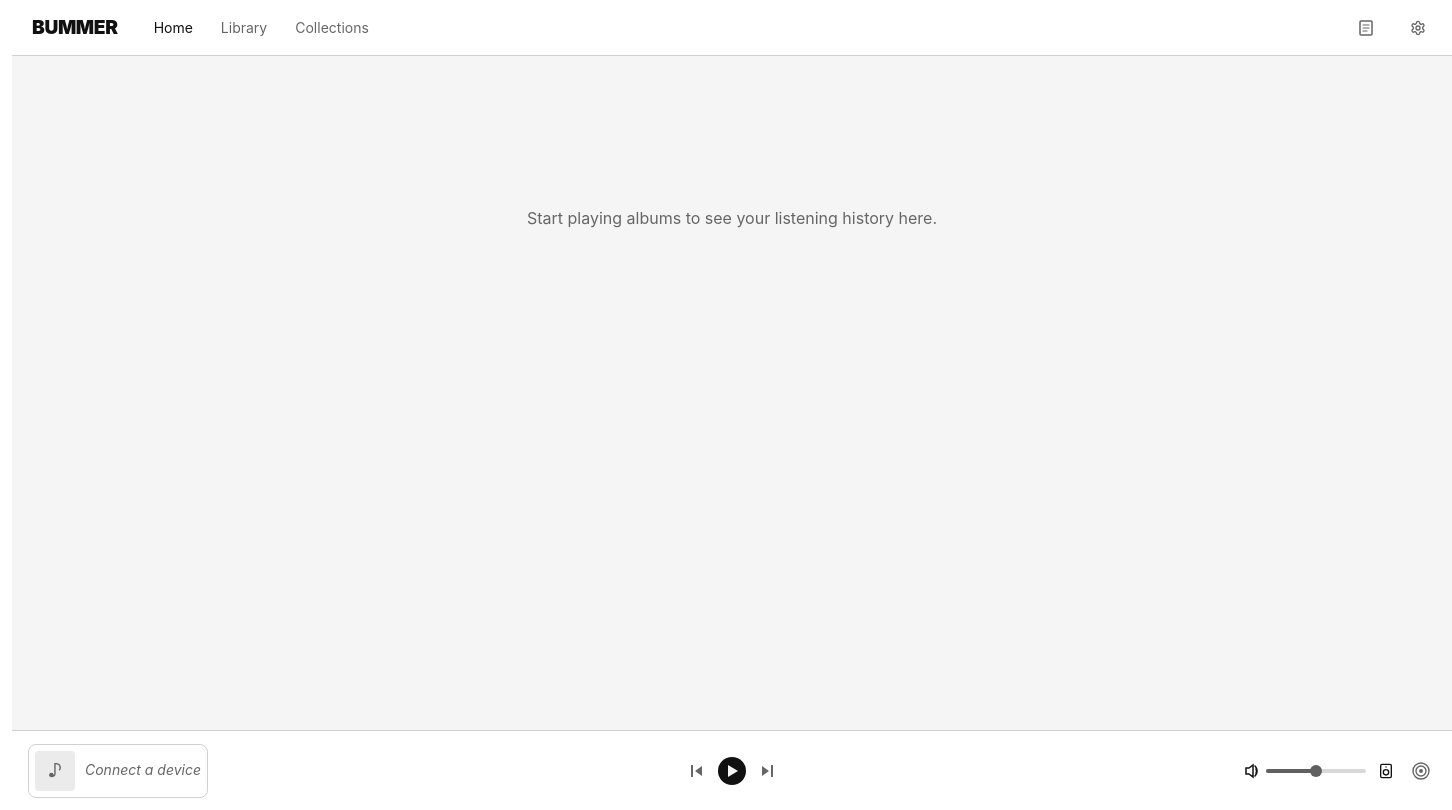
Test: App layout › shows desktop search input on library page
expect the header is shown: met, box [12, 0, 1451, 56]
Note: Navigate to library
Click the button "Library" at (244, 28), box [209, 12, 279, 44]
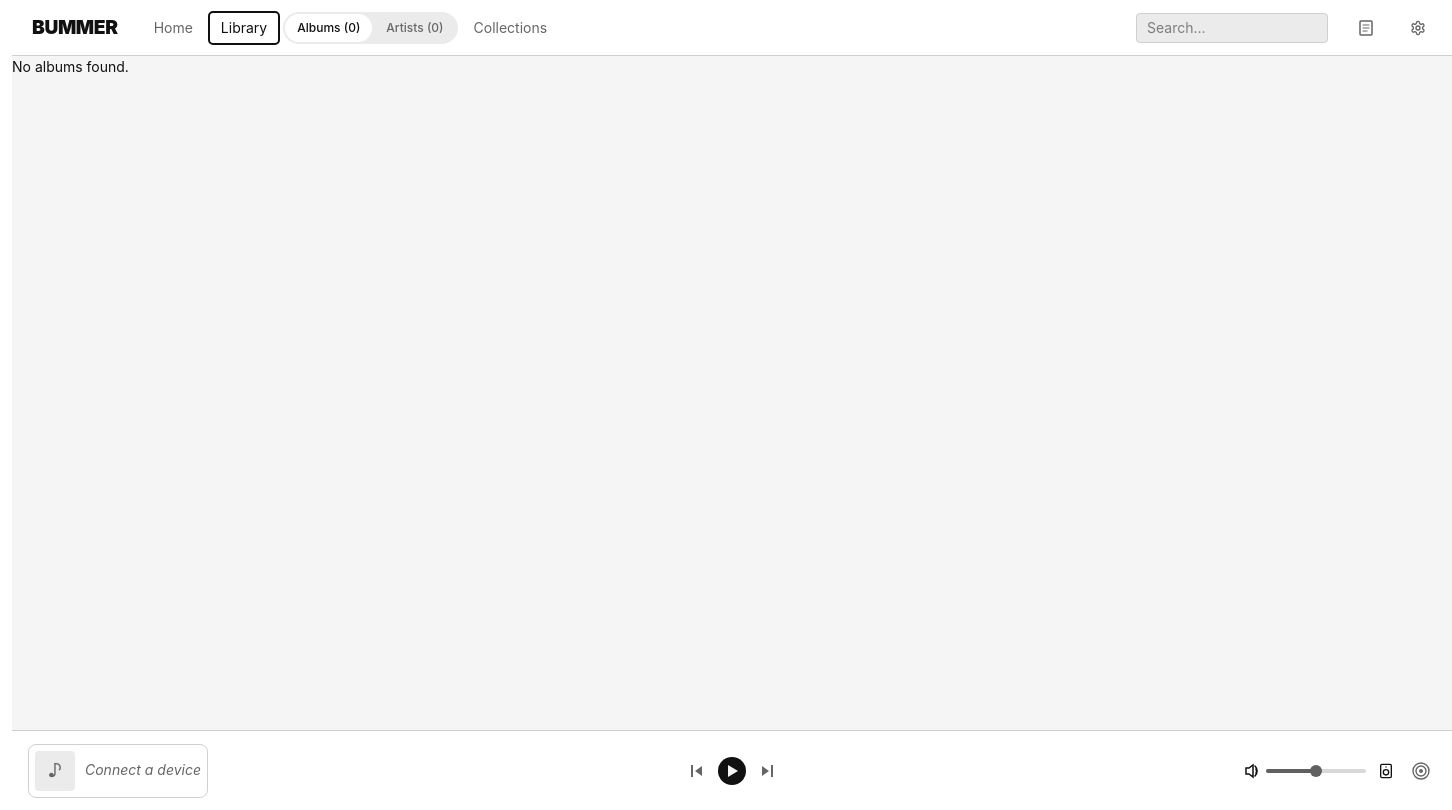
expect the field with placeholder "Search…" is shown: met, box [1136, 12, 1328, 42]
